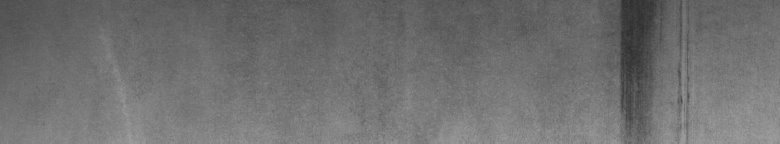ka: (608, 4, 694, 136)
